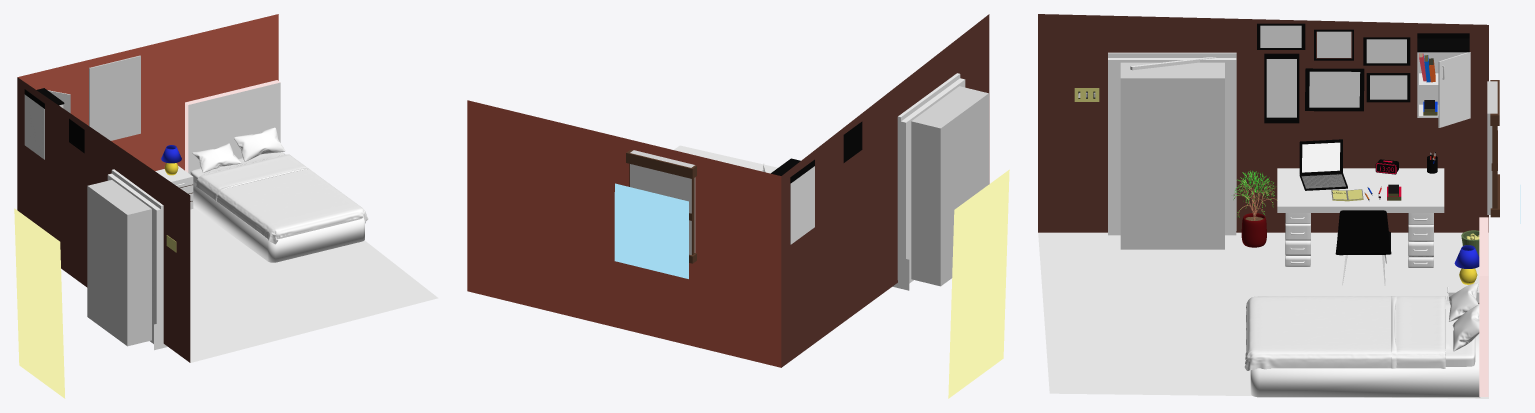
The model's file is 33-the-room-2.glb.
3 renders of one model, left to right at view 1: azimuth 30°, elevation 25°; view 2: azimuth 150°, elevation 25°; view 3: azimuth 270°, elevation 25°, orthographic. The views are drawn at different scales.
Visible parts, largest first — view 1: Room, door blank, Blanket, Plane.002, head bed, Plane, Window blank, CTRL_Hole, Cabinet, Plane.011, Plane.003, DoorFrame (+3 smaller); view 2: Room, door blank, Plane.002, Plane.018, CTRL_Hole, Window blank, Cabinet, DoorFrame, Cube.020, Plane.008; view 3: Room, door blank, Blanket, Plane, table, CTRL_Hole, Plane.004, Plane.009, chair plane, Cabinet1_Door, head bed, Cube.014 (+19 smaller).
Part boxes in pixels (x1,y1,x2,y2): Room: (17, 14, 438, 362); door blank: (87, 180, 151, 346); Blanket: (196, 154, 368, 244); Plane.002: (14, 208, 65, 398); head bed: (185, 80, 280, 174); Plane: (193, 181, 364, 262); Window blank: (89, 55, 140, 140); CTRL_Hole: (107, 173, 164, 345); Cabinet: (24, 94, 63, 159); Plane.011: (234, 127, 285, 161); Plane.003: (192, 143, 241, 172); DoorFrame: (111, 169, 163, 342); Room: (467, 14, 989, 367); door blank: (911, 86, 988, 286); Plane.002: (948, 169, 1009, 398); Plane.018: (614, 183, 688, 278); CTRL_Hole: (897, 78, 965, 285); Window blank: (630, 150, 695, 254); Cabinet: (790, 166, 814, 244); DoorFrame: (897, 73, 960, 280); Cube.020: (626, 150, 696, 178); Plane.008: (843, 121, 862, 162); Room: (1038, 14, 1488, 398); door blank: (1120, 62, 1224, 249); Blanket: (1244, 296, 1445, 370); Plane: (1250, 334, 1479, 397); table: (1277, 168, 1444, 212); CTRL_Hole: (1108, 58, 1236, 235); Plane.004: (1305, 68, 1364, 111); Plane.009: (1264, 53, 1299, 123); chair plane: (1335, 210, 1391, 255); Cabinet1_Door: (1438, 52, 1470, 127); head bed: (1479, 217, 1488, 396); Cube.014: (1299, 139, 1342, 174).
Bounding box in the file's own units: 3.69 × 2.41 × 3.53.
